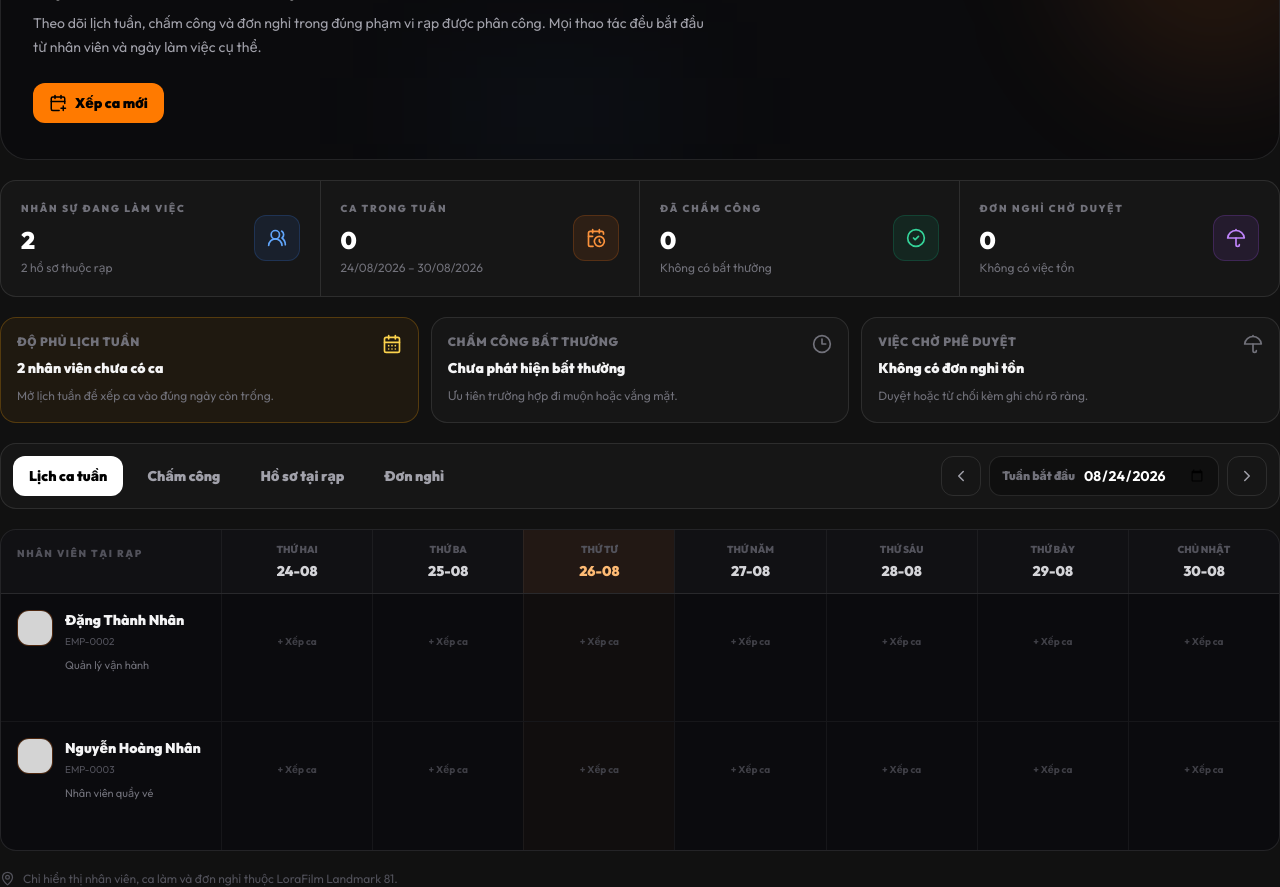
Test: ManagerStaffPage › xếp ca từ đúng ô nhân viên và ngày làm việc bằng modal
The width and height of the screenshot is (1280, 887).
(page scrolled)
Click the button with aria-label "Xếp ca cho Nguyễn Hoàng Nhân ngày": (297, 770) [230, 730, 364, 810]
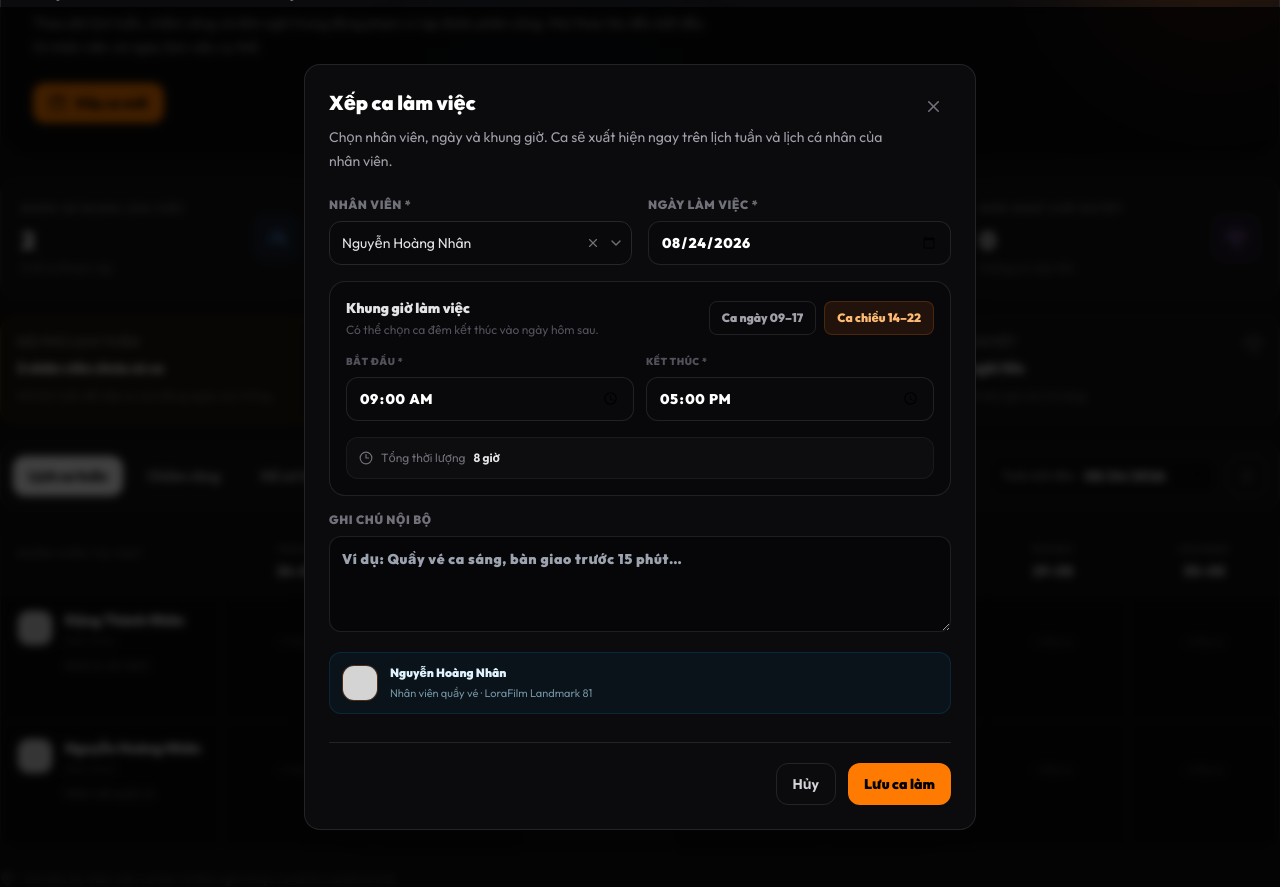
Check: the heading "Xếp ca làm việc" is shown, box [329, 90, 476, 115]
Replace the text in the time field labelled "Bắt đầu *" with "14:00": (490, 399) [346, 377, 634, 421]
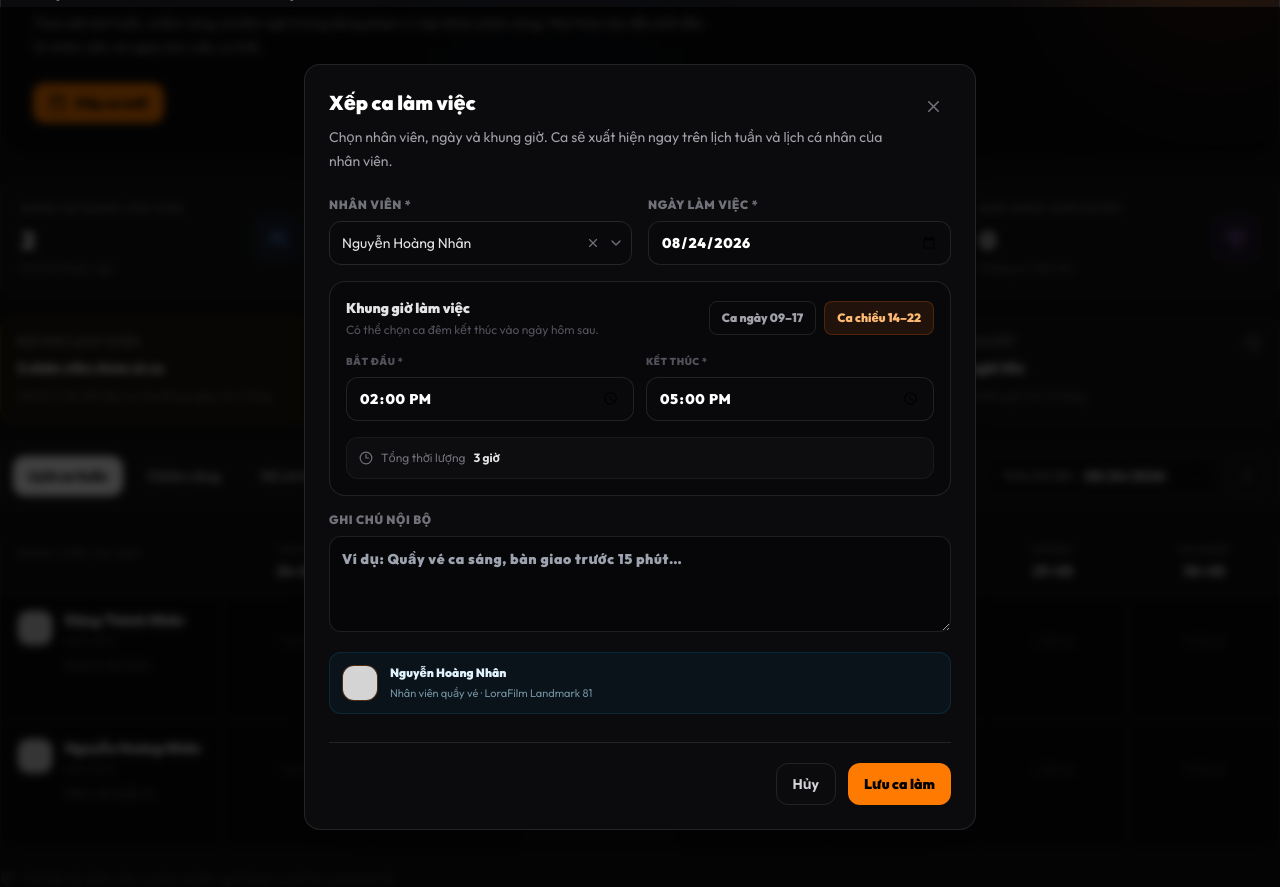
Replace the text in the time field labelled "Kết thúc *" with "22:00": (790, 399) [646, 377, 934, 421]
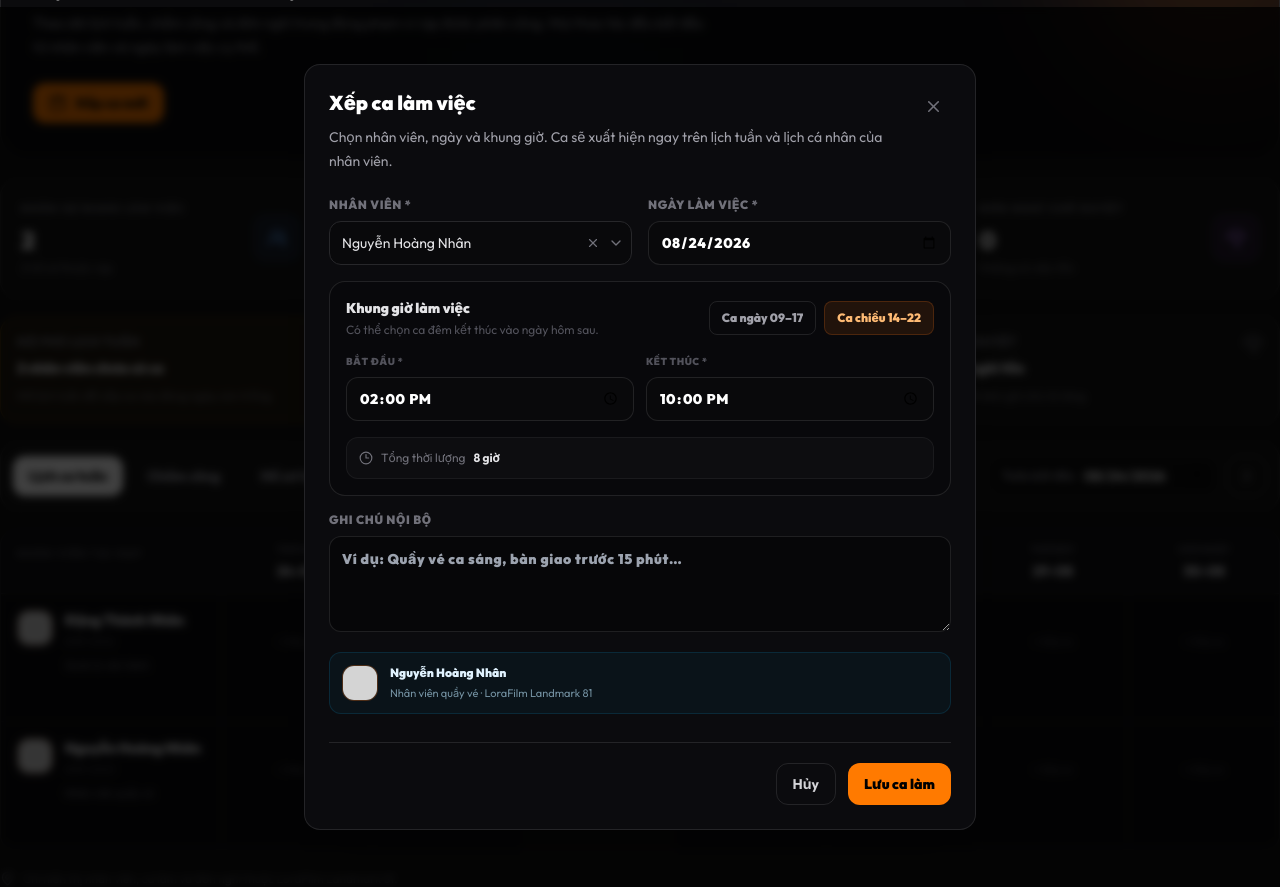
In the text box with placeholder "Ví dụ: Quầy vé ca sáng, bàn giao trước 15 phút…": (640, 584) [329, 536, 951, 632], type "Quầy vé ca chiều"
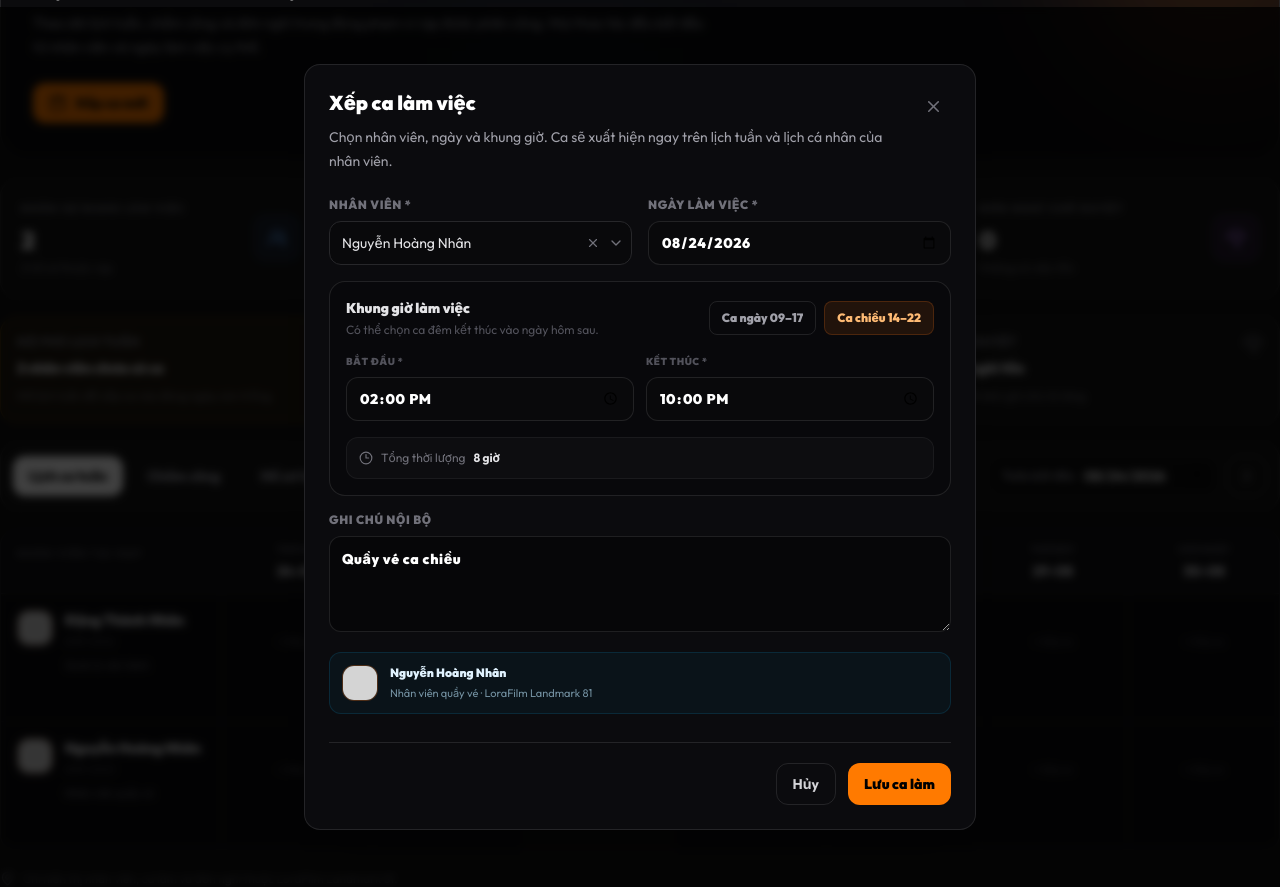
Click the button "Lưu ca làm": (900, 784) [848, 763, 951, 805]
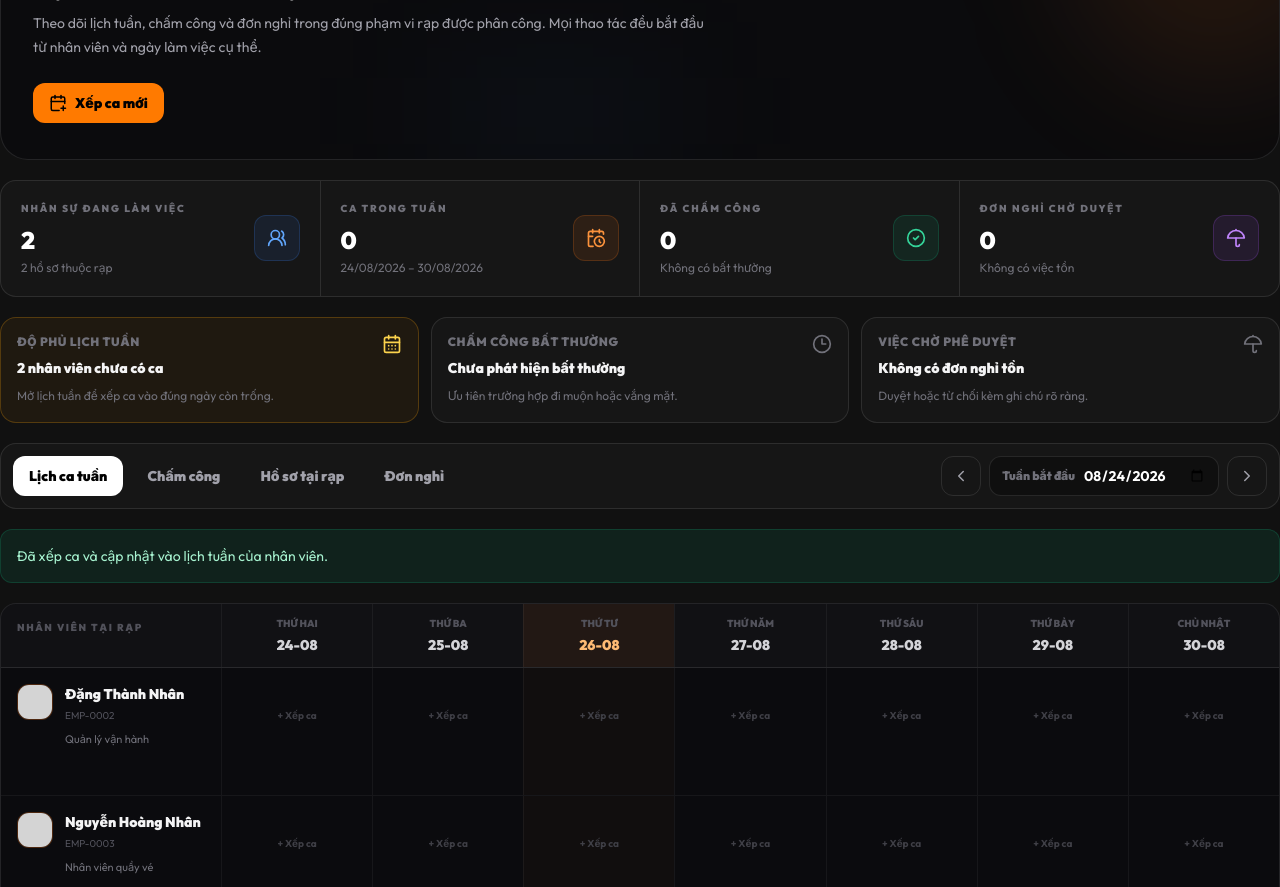
Check: the text "Đã xếp ca và cập nhật vào lịch tuần của nhân viên." is shown, box [0, 528, 1279, 582]
